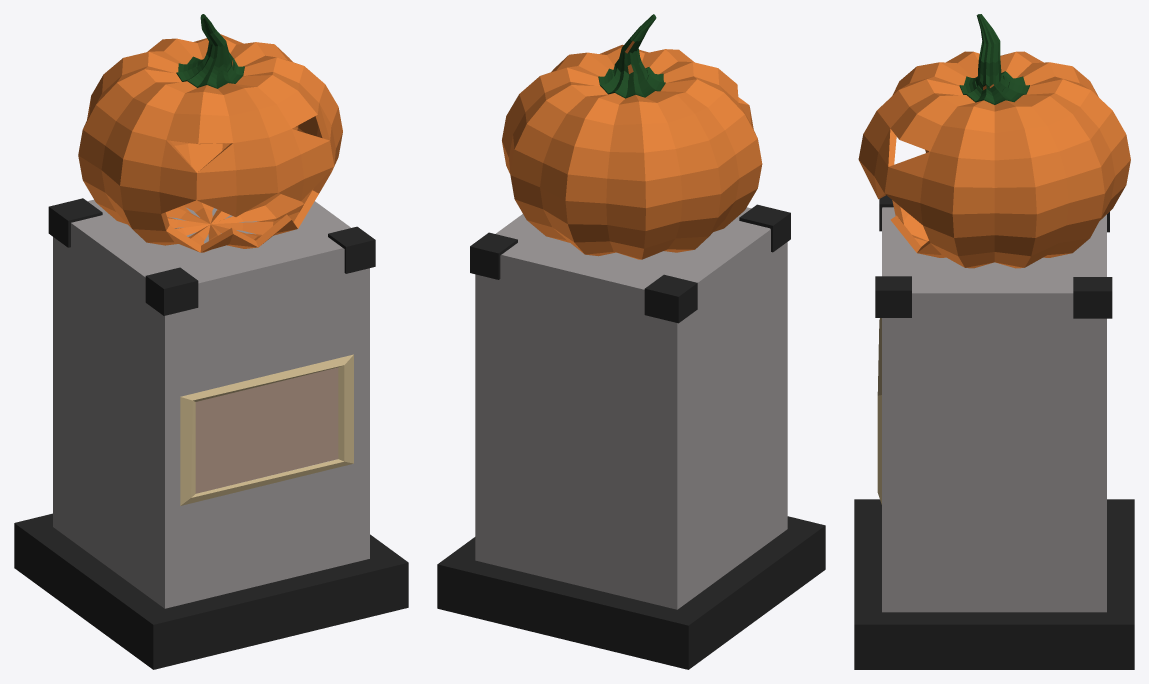
Rendered from Pumpkin Statue.fbx.
The picture shows the model from 3 angles, left to right: view 1: azimuth 30°, elevation 25°; view 2: azimuth 150°, elevation 25°; view 3: azimuth 270°, elevation 25°; orthographic projection. The views are drawn at different scales.
Parts seen in each view (by area): view 1: Cube, Sphere, Cube.001; view 2: Cube, Sphere, Cube.001; view 3: Cube, Sphere, Cube.001.
Part boxes in pixels (box(x1,y1,x2,y2)): Cube: box(14, 199, 408, 669); Sphere: box(78, 14, 342, 252); Cube.001: box(48, 198, 375, 315); Cube: box(437, 207, 825, 669); Sphere: box(502, 14, 762, 259); Cube.001: box(470, 204, 790, 323); Cube: box(854, 207, 1134, 669); Sphere: box(858, 14, 1130, 268); Cube.001: box(875, 195, 1112, 318).
Size of the model in its own units: 234 by 510 by 221.
